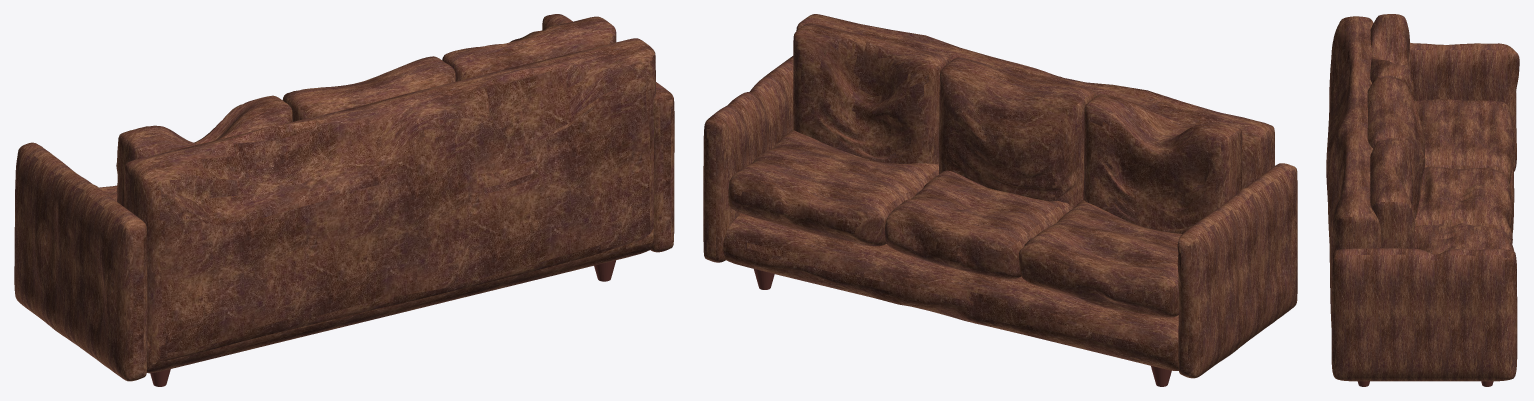
The model's file is couch.fbx.
3 renders of one model, left to right at view 1: azimuth 30°, elevation 25°; view 2: azimuth 150°, elevation 25°; view 3: azimuth 270°, elevation 25°, orthographic. The views are drawn at different scales.
Parts seen in each view (by area): view 1: Cube.127; view 2: Cube.127; view 3: Cube.127.
Boxes of the visible parts, x1,y1,x2,y2 form: Cube.127: (14, 14, 674, 386); Cube.127: (703, 14, 1297, 386); Cube.127: (1326, 14, 1519, 386).
Bounding box in the file's own units: 346 × 144 × 129.
Materials: 2 (1 with a texture image).
